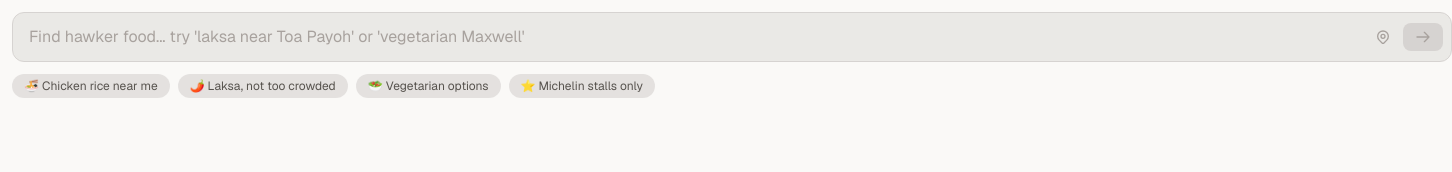
Scenario: SearchBar › fills input when chip is clicked
Click the button with aria-label "Try search: Chicken rice": click(91, 86) [12,74,170,98]
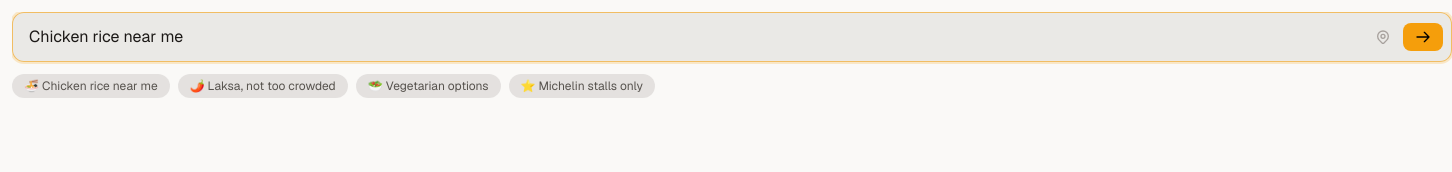
Expected: the field named "Search for hawker food in Singapore" holds "Chicken rice near me", [13,13,1367,61]
